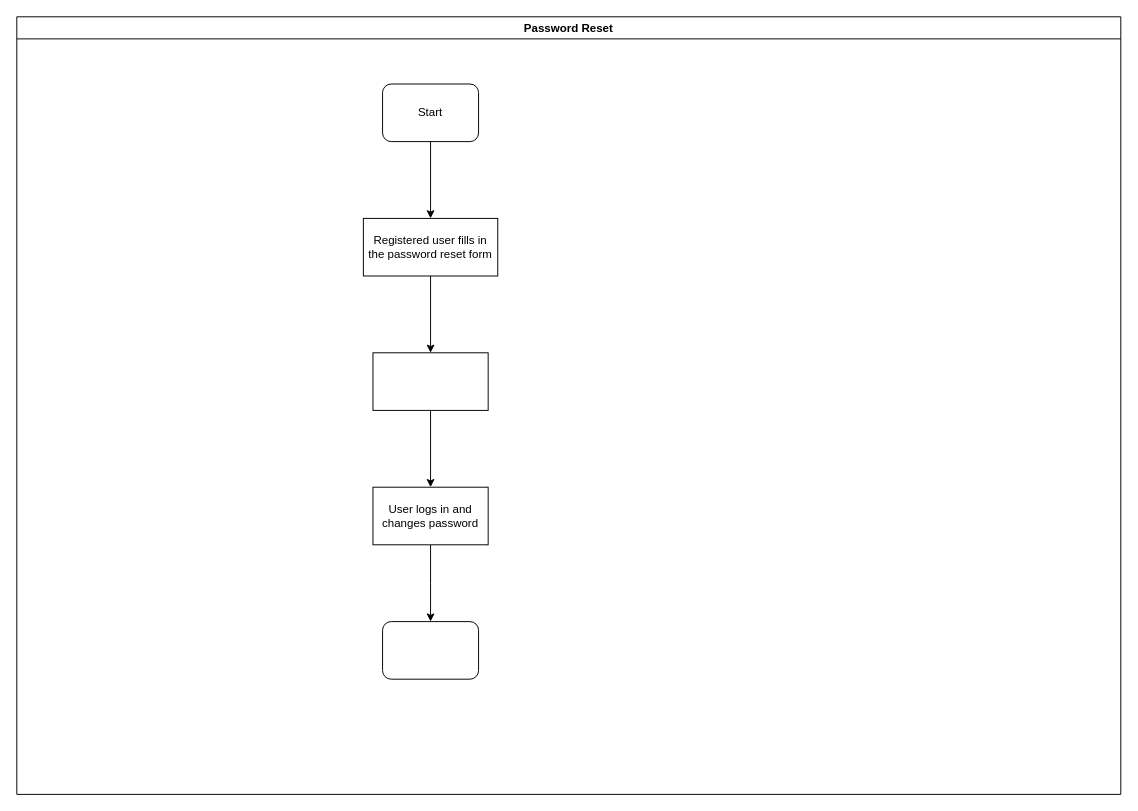
The diagram is 1138 pixels wide and 811 high, and some of its shapes have lost their labels. The shapes that lost their labels are listed below. From the top down, each one's centre as x and y in pixels, then its label:
point 430,381: User receives an email verification link/ password on their registered email
point 430,650: End
